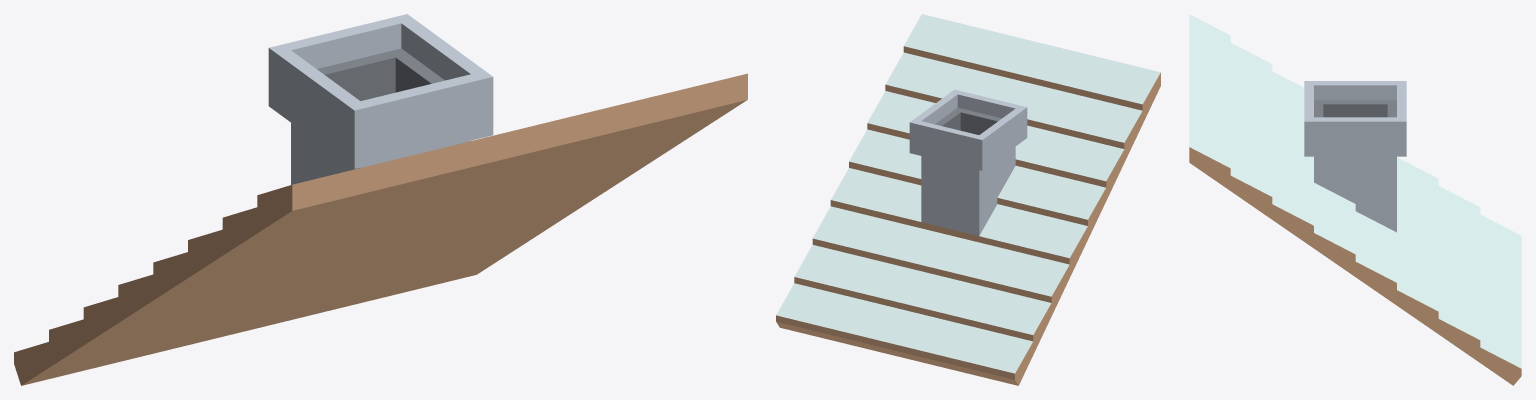
The model's file is cabinRoofChimney.glb.
3 views of the same model, side by side, from view 1: azimuth 30°, elevation 25°; view 2: azimuth 150°, elevation 25°; view 3: azimuth 270°, elevation 25° (orthographic). The views are drawn at different scales.
Visible parts, largest first — view 1: cabinRoofChimney; view 2: cabinRoofChimney; view 3: cabinRoofChimney.
Part boxes in pixels (left/top/right/bottom): cabinRoofChimney: left=14, top=14, right=747, bottom=385; cabinRoofChimney: left=776, top=14, right=1160, bottom=385; cabinRoofChimney: left=1189, top=14, right=1521, bottom=385.
Bounding box in the file's own units: 1.14 × 0.9559 × 1.21.
